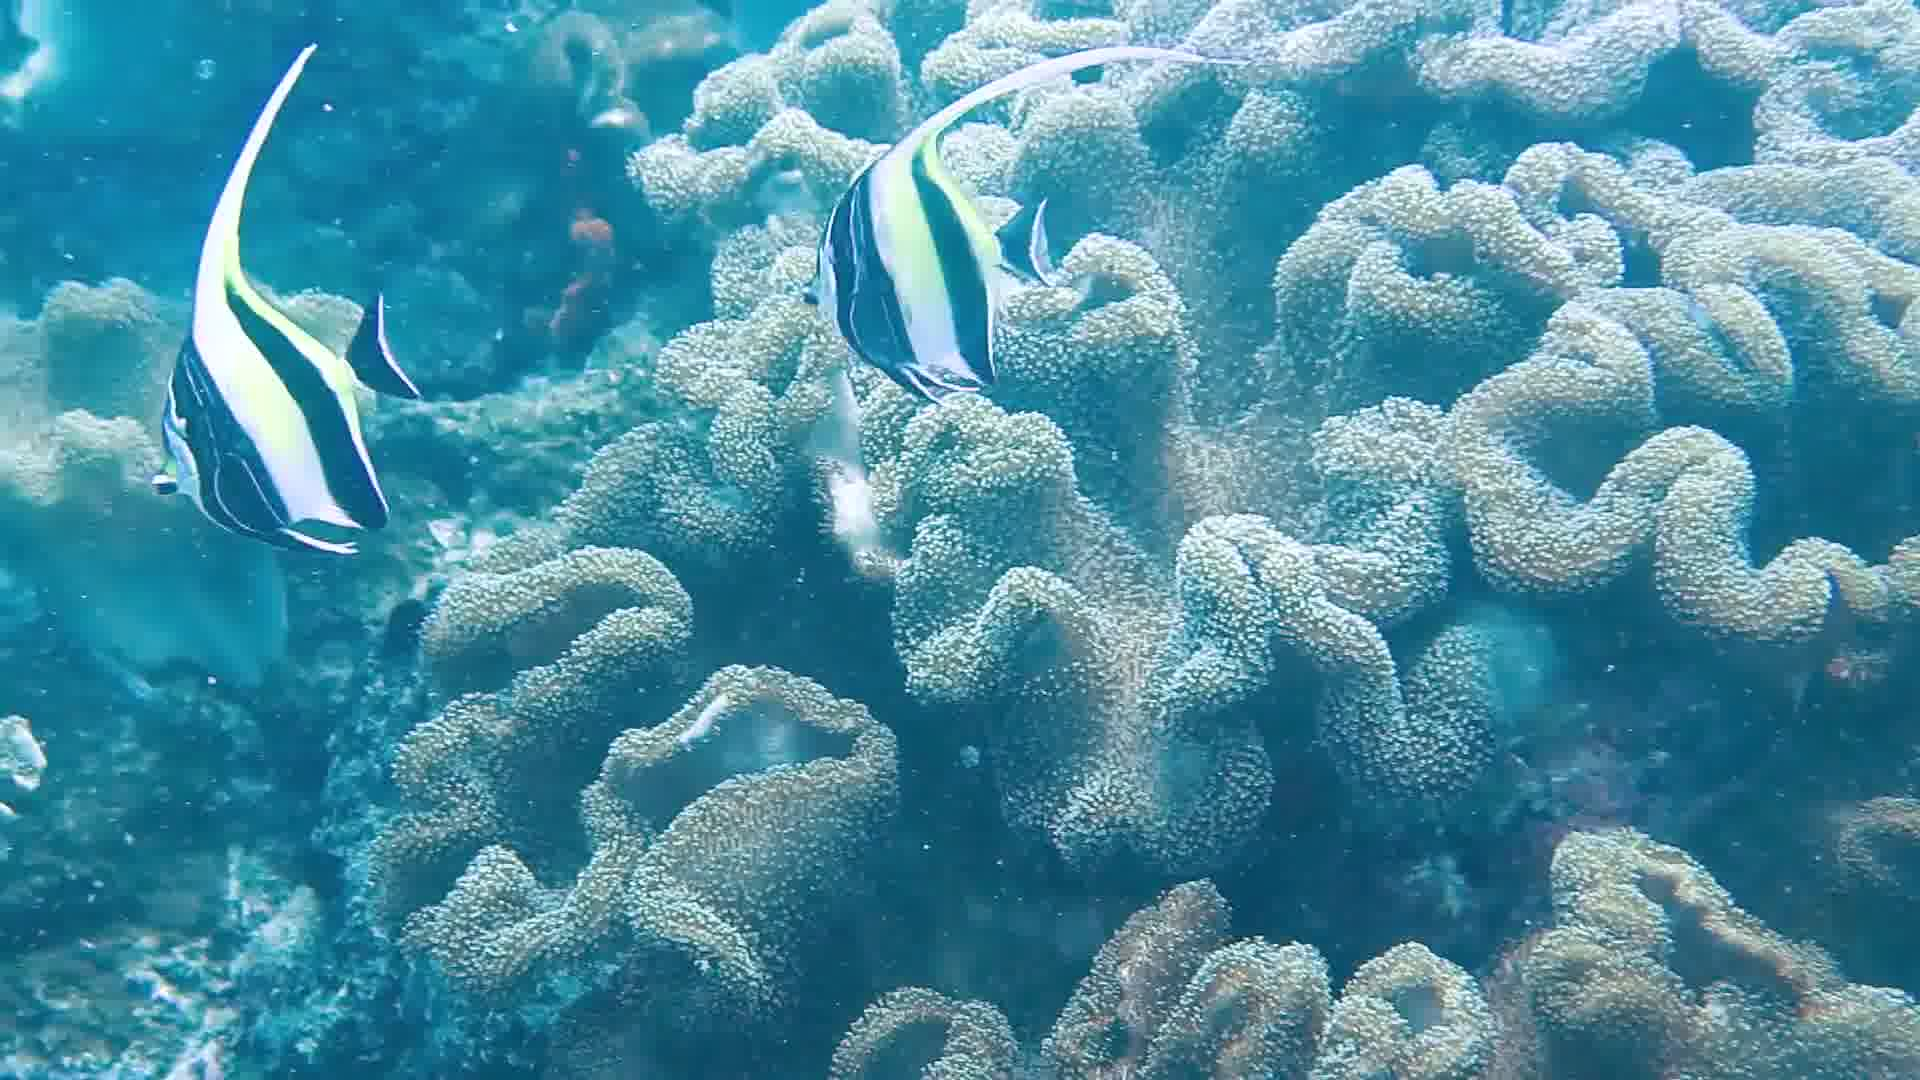Zanclus cornutus: (146, 228, 425, 559), (785, 86, 1062, 417)
